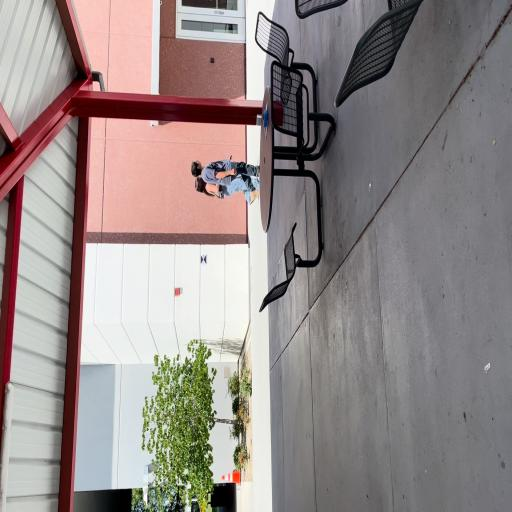target9: (200, 254, 207, 263)
